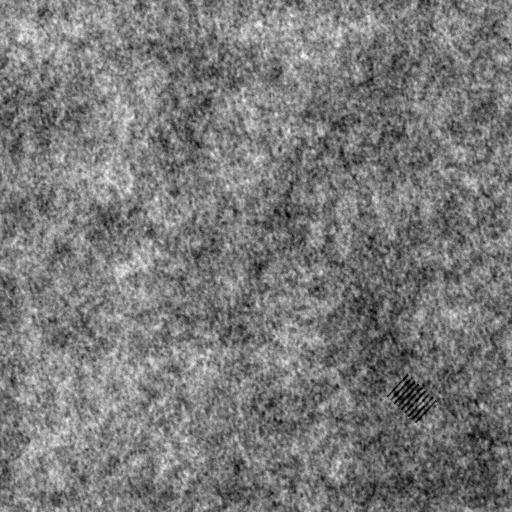impact: (385, 373, 440, 426)
